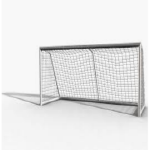goals: (38, 41, 147, 118)
